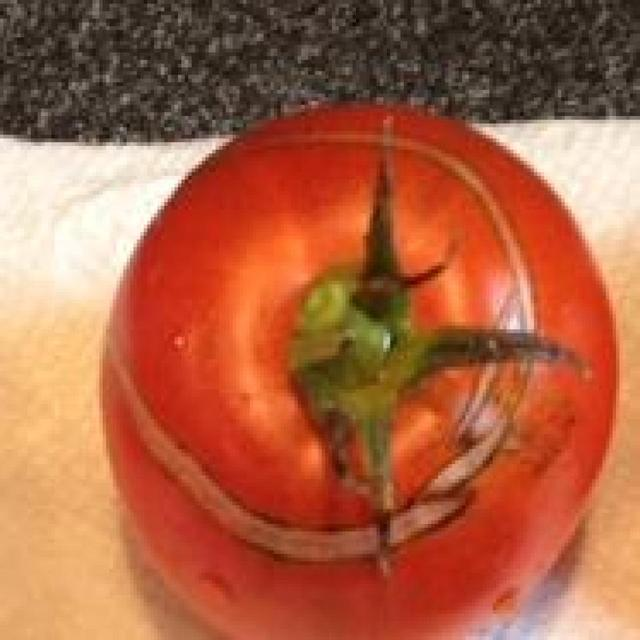Cracking Fruit: (68, 82, 360, 371)
